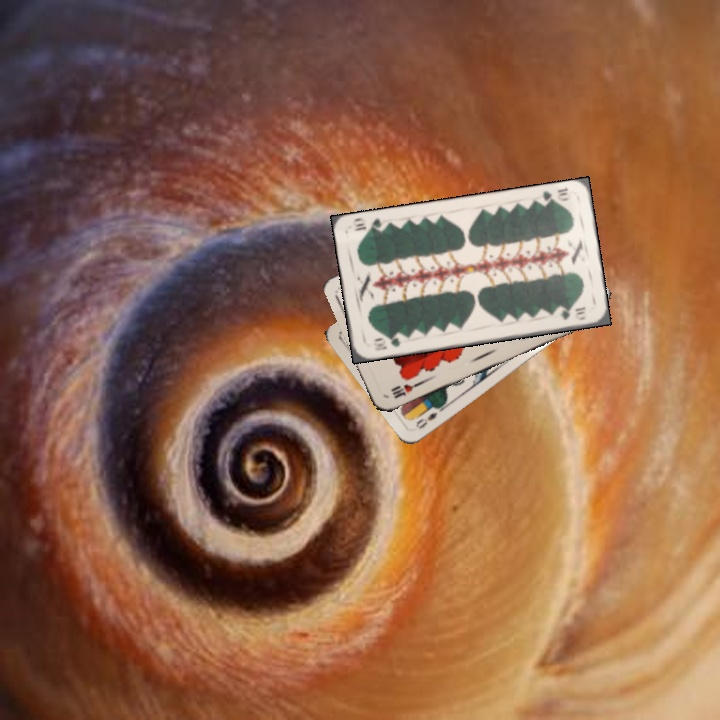EO: (412, 403, 445, 432)
G10: (535, 184, 571, 207), (370, 332, 404, 353)
H10: (387, 378, 423, 401)
